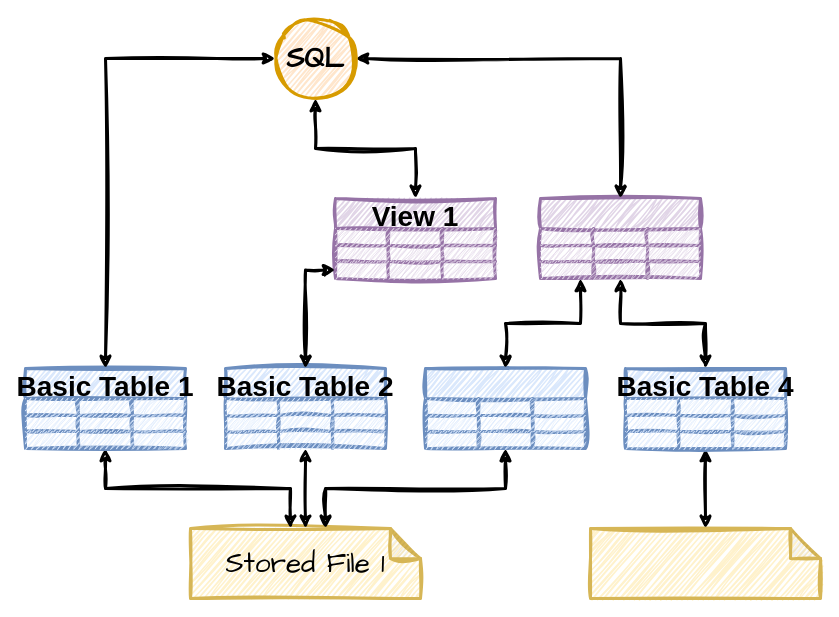
This 839x617 diagram has some shape labels left out. Each missing label, with the box of its shape:
Basic Table 3: (424, 366, 586, 450)
Stored File 2: (588, 526, 822, 600)
View 2: (538, 196, 702, 280)
